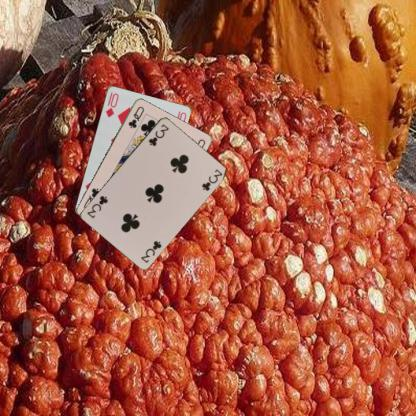10d: (102, 90, 119, 118)
3c: (145, 122, 170, 148), (138, 238, 163, 264)
Qc: (125, 104, 145, 130)
